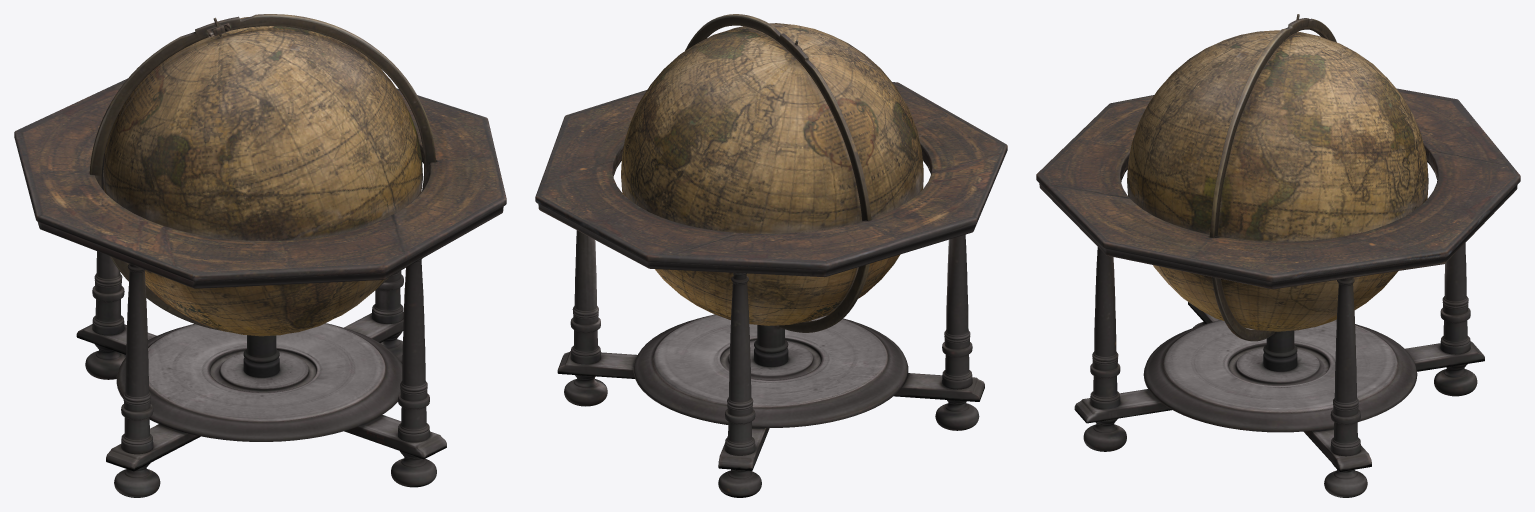
Rendered from earth-globe.glb.
3 renders of one model, left to right at view 1: azimuth 30°, elevation 25°; view 2: azimuth 150°, elevation 25°; view 3: azimuth 270°, elevation 25°, orthographic. The views are drawn at different scales.
Visible parts, largest first — view 1: Object_4, Object_7, Object_5, Object_2, Object_12, Object_11, Object_9, Object_10, Object_6; view 2: Object_4, Object_7, Object_5, Object_9, Object_12, Object_2, Object_10, Object_6; view 3: Object_4, Object_7, Object_5, Object_10, Object_11, Object_9, Object_2, Object_6.
Boxes of the visible parts, x1,y1,x2,y2 form: Object_4: [103, 17, 422, 336]; Object_7: [14, 78, 506, 471]; Object_5: [116, 323, 402, 441]; Object_2: [89, 14, 435, 330]; Object_12: [114, 264, 160, 497]; Object_11: [391, 259, 436, 487]; Object_9: [85, 155, 125, 379]; Object_10: [371, 270, 403, 363]; Object_6: [207, 23, 279, 377]; Object_4: [621, 23, 923, 325]; Object_7: [535, 82, 1007, 470]; Object_5: [633, 314, 908, 427]; Object_9: [718, 273, 761, 497]; Object_12: [935, 234, 979, 430]; Object_2: [685, 14, 871, 332]; Object_10: [564, 230, 607, 406]; Object_6: [754, 45, 801, 366]; Object_4: [1127, 30, 1428, 331]; Object_7: [1036, 88, 1520, 471]; Object_5: [1143, 319, 1417, 432]; Object_10: [1324, 277, 1367, 497]; Object_11: [1083, 247, 1126, 451]; Object_9: [1434, 243, 1477, 396]; Object_2: [1209, 18, 1336, 341]; Object_6: [1263, 330, 1297, 371].
Bounding box in the file's own units: 0.9447 × 0.84 × 0.9498.
Materials: 8 (8 with a texture image).
